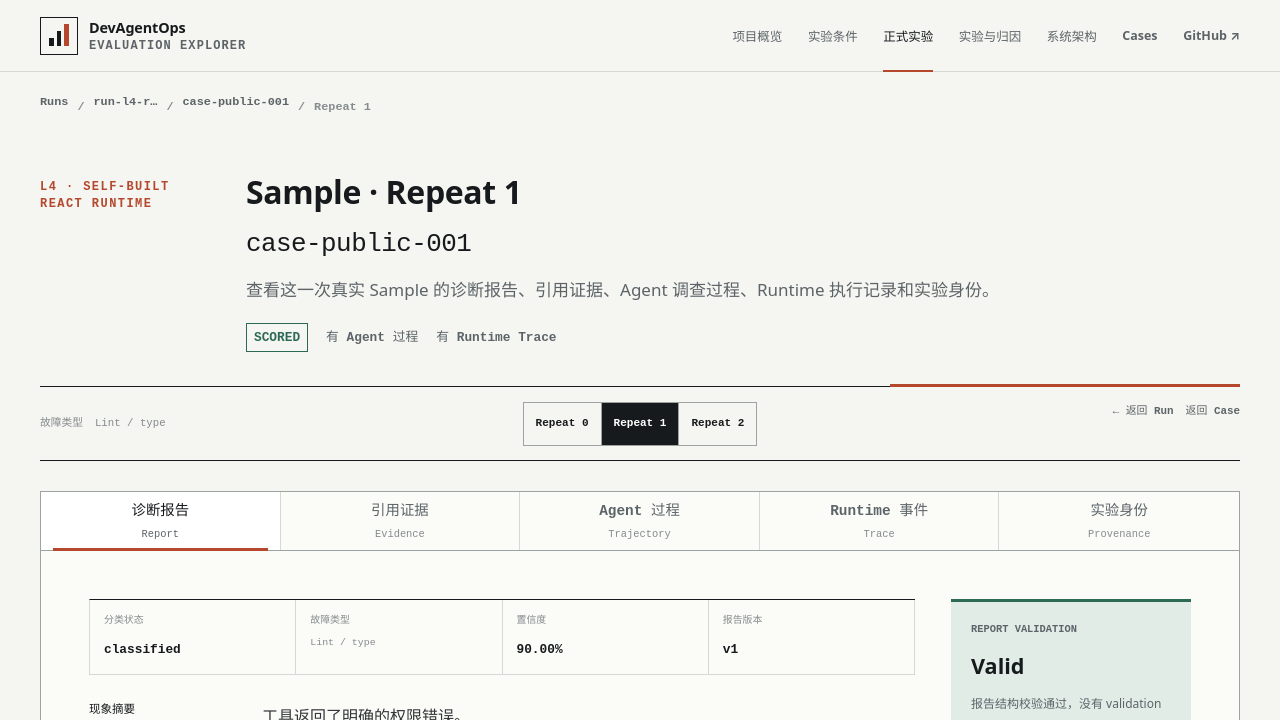
Test: Phase 2C public Evaluation Explorer › lazy-loads and preserves ordered Trajectory messages, ToolCall, and ToolResult
Expected: the heading "Sample · Repeat 1" is shown, [246,170,522,213]
Click the tab "Agent 过程 Trajectory": (640, 521) [520,492,760,550]
(page scrolled)
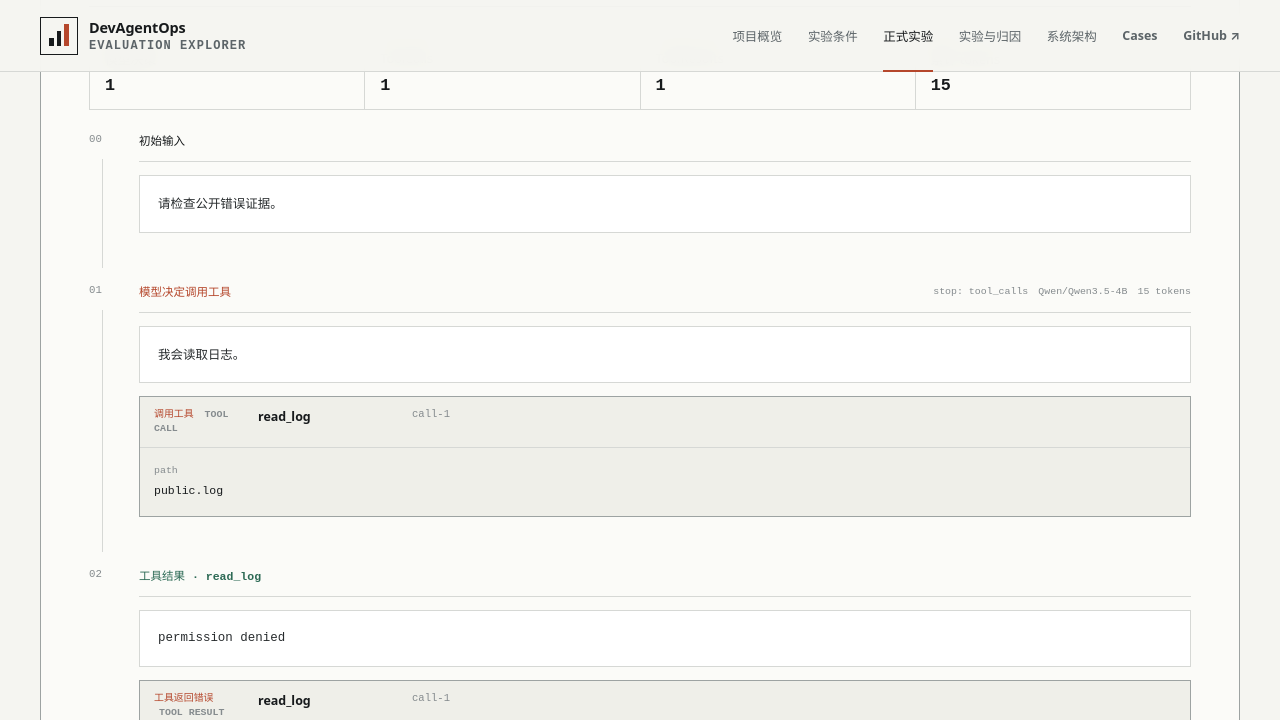
Now the list item "00 初始输入 请检查公开错误证据。" is shown, box [89,134,1191,285]
Now the list item that starts with "模型决定调用工具" shows "TOOL CALL", box [154,409,228,434]
Now the list item that starts with "模型决定调用工具" shows "read_log", box [258,408,311,425]
